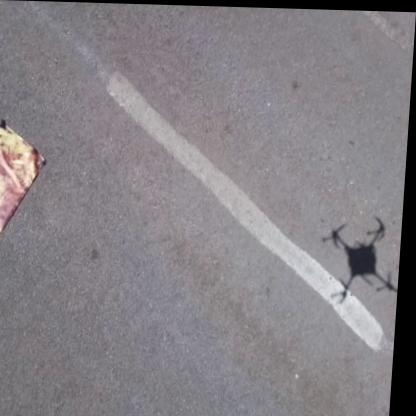fire-poster: (0, 117, 51, 256)
